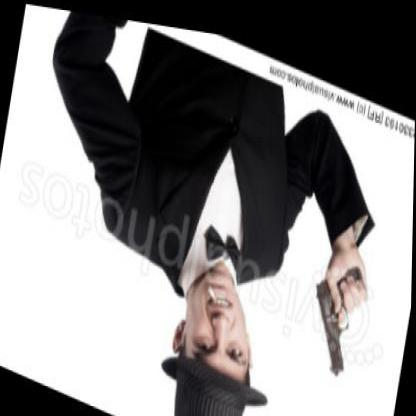pistol: (304, 236, 375, 373)
